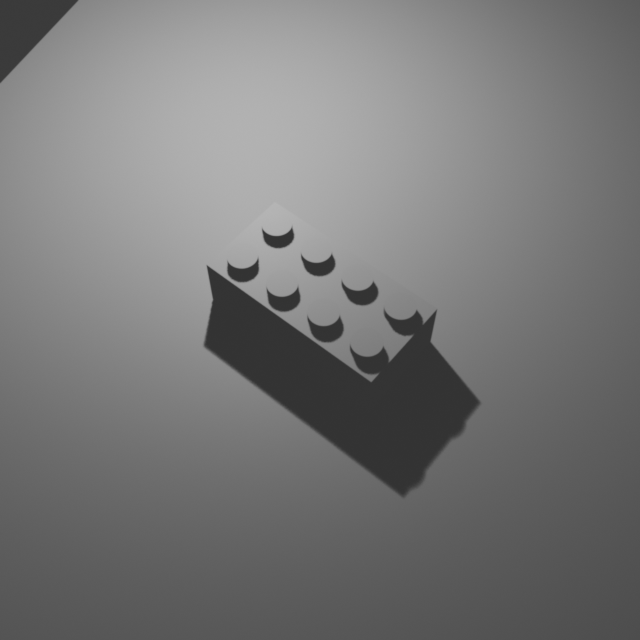lego_2x4: (205, 195, 439, 412)
